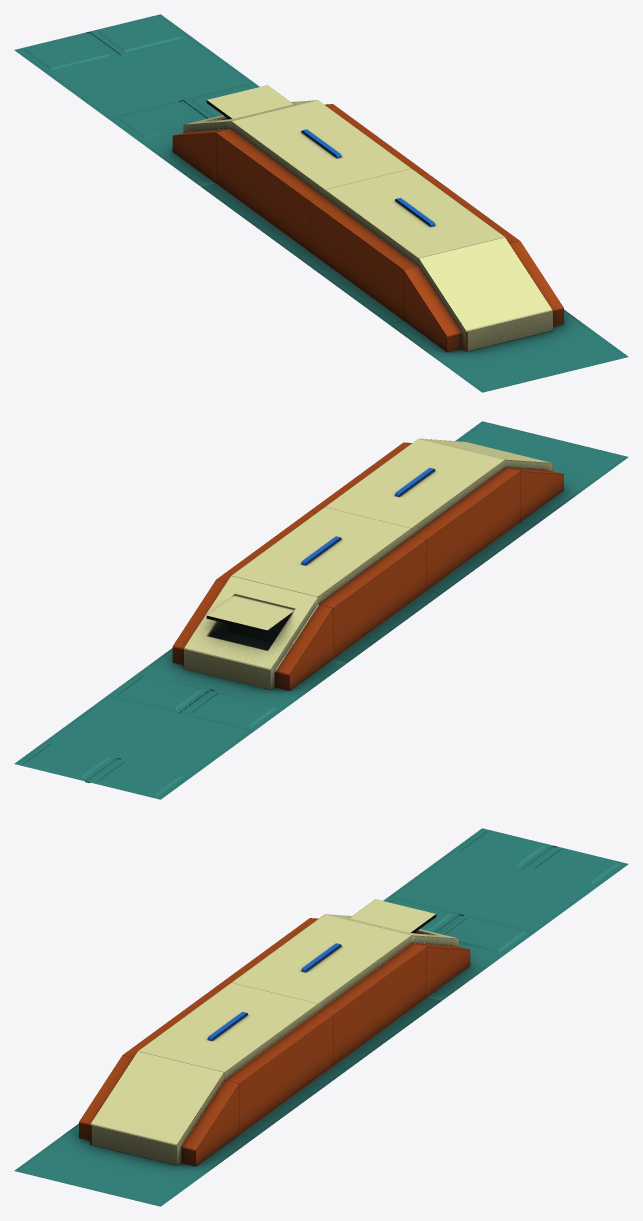
Rendered from sc_lvl1_floortile_08.FBX.
3 renders of one model, top to bottom at view 1: azimuth 30°, elevation 25°; view 2: azimuth 150°, elevation 25°; view 3: azimuth 330°, elevation 25°, orthographic.
Visible parts, largest first — view 1: sc_lvl1_floortile_08; view 2: sc_lvl1_floortile_08; view 3: sc_lvl1_floortile_08.
Part boxes in pixels (x1,y1,x2,y2): sc_lvl1_floortile_08: (14,14,628,392); sc_lvl1_floortile_08: (14,421,628,799); sc_lvl1_floortile_08: (14,828,628,1206).
Size of the model in its own units: 18.1 by 7.32 by 100.
